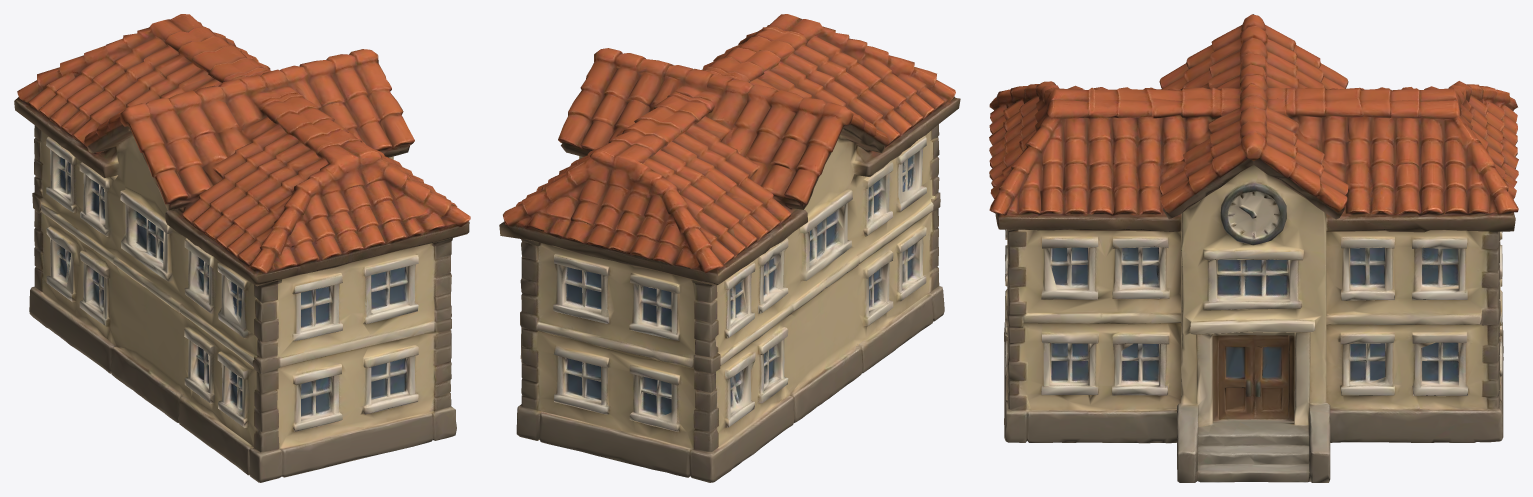
The model's file is escuela.glb.
The picture shows the model from 3 angles, left to right: view 1: azimuth 30°, elevation 25°; view 2: azimuth 150°, elevation 25°; view 3: azimuth 270°, elevation 25°; orthographic projection. The views are drawn at different scales.
Visible parts, largest first — view 1: tripo_node_fbf87565-f888-4635-bee5-fd15ed76439d; view 2: tripo_node_fbf87565-f888-4635-bee5-fd15ed76439d; view 3: tripo_node_fbf87565-f888-4635-bee5-fd15ed76439d.
Part boxes in pixels (bbox=[...]): tripo_node_fbf87565-f888-4635-bee5-fd15ed76439d: bbox=[14, 14, 470, 482]; tripo_node_fbf87565-f888-4635-bee5-fd15ed76439d: bbox=[499, 14, 960, 482]; tripo_node_fbf87565-f888-4635-bee5-fd15ed76439d: bbox=[989, 14, 1518, 482].
Bounding box in the file's own units: 0.6879 × 0.6633 × 1.
Materials: 1 (1 with a texture image).
